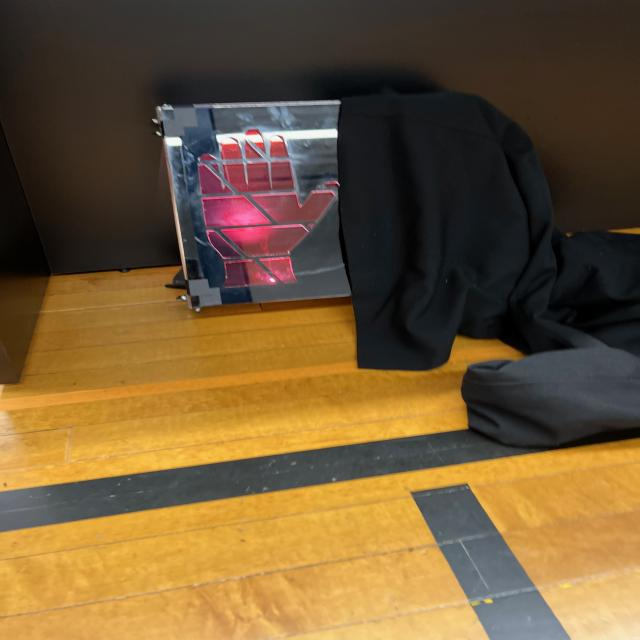stop: (160, 107, 349, 308)
